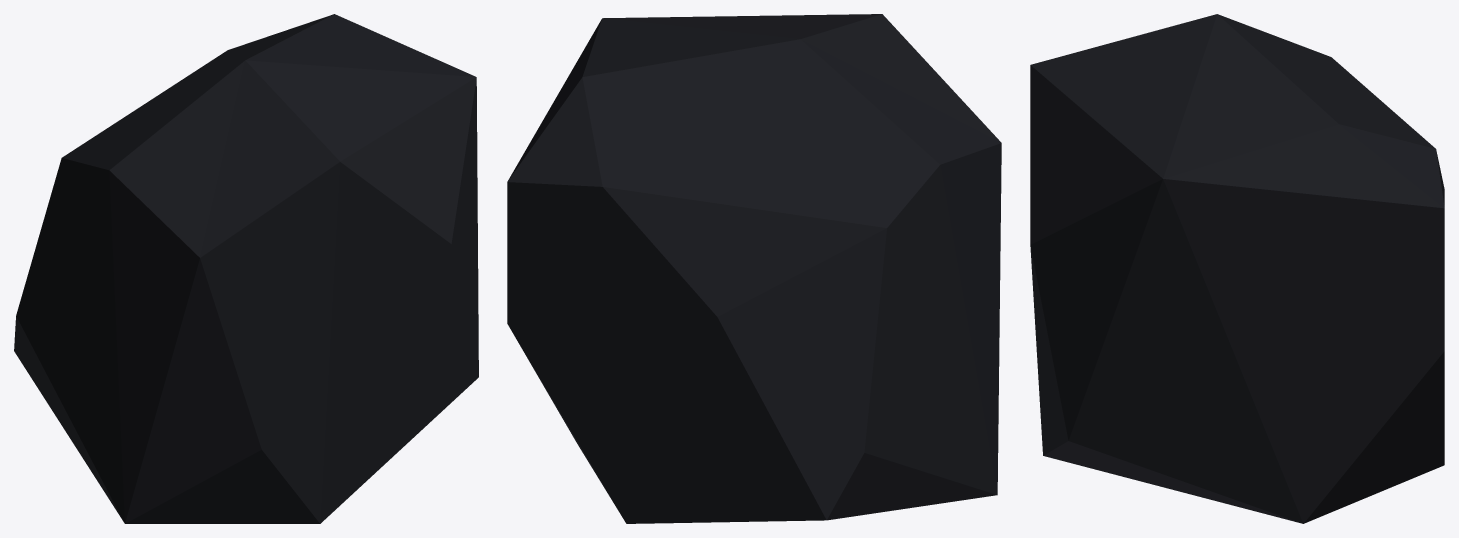
Rendered from rock_small.fbx.
3 renders of one model, left to right at view 1: azimuth 30°, elevation 25°; view 2: azimuth 150°, elevation 25°; view 3: azimuth 270°, elevation 25°, orthographic. The views are drawn at different scales.
Parts seen in each view (by area): view 1: rock_small; view 2: rock_small; view 3: rock_small.
Part boxes in pixels (left/top/right/bottom): rock_small: left=14, top=14, right=478, bottom=523; rock_small: left=507, top=14, right=1001, bottom=523; rock_small: left=1030, top=14, right=1444, bottom=523.
Bounding box in the file's own units: 137 × 148 × 125.
